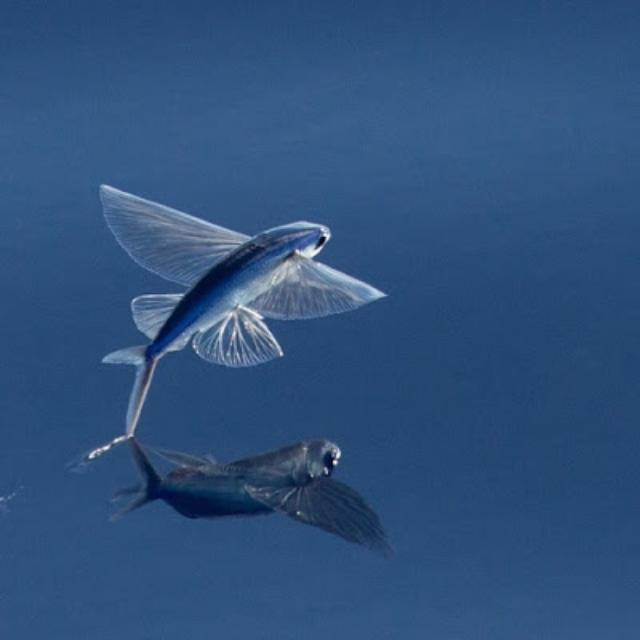Sirip Dada: (93, 180, 395, 332)
Sirip Ekor: (90, 338, 166, 442)
Sirip Perut: (123, 282, 291, 386)
